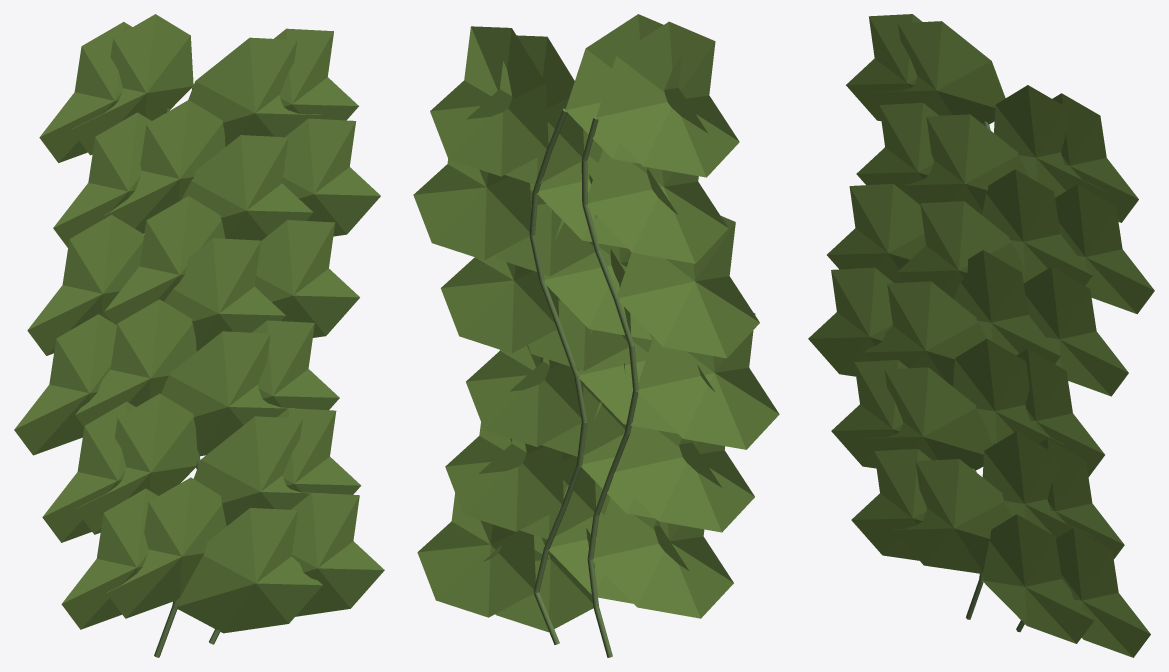
File: epipremnum-aureum.glb
3 views of the same model, side by side, from view 1: azimuth 30°, elevation 25°; view 2: azimuth 150°, elevation 25°; view 3: azimuth 330°, elevation 25° (orthographic). The views are drawn at different scales.
Parts seen in each view (by area): view 1: Climber species leaves, Climber species stems; view 2: Climber species leaves, Climber species stems; view 3: Climber species leaves.
Boxes of the visible parts, x1,y1,x2,y2 form: Climber species leaves: [14, 14, 384, 633]; Climber species stems: [154, 84, 220, 657]; Climber species leaves: [413, 14, 779, 632]; Climber species stems: [529, 108, 638, 657]; Climber species leaves: [808, 14, 1154, 657].
Size of the model in its own units: 0.5459 by 0.9213 by 0.0815.
